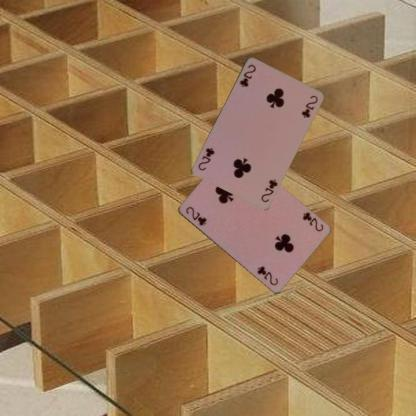2c: (299, 209, 325, 233), (258, 176, 279, 204), (183, 204, 208, 227), (237, 61, 257, 89)
